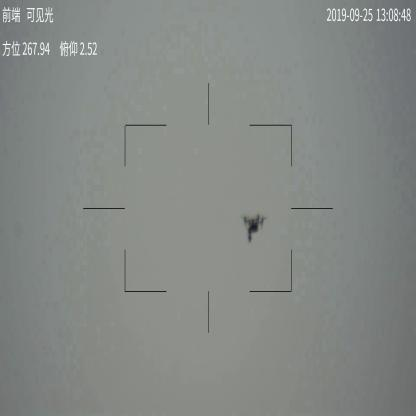uav: (242, 212, 264, 241)
